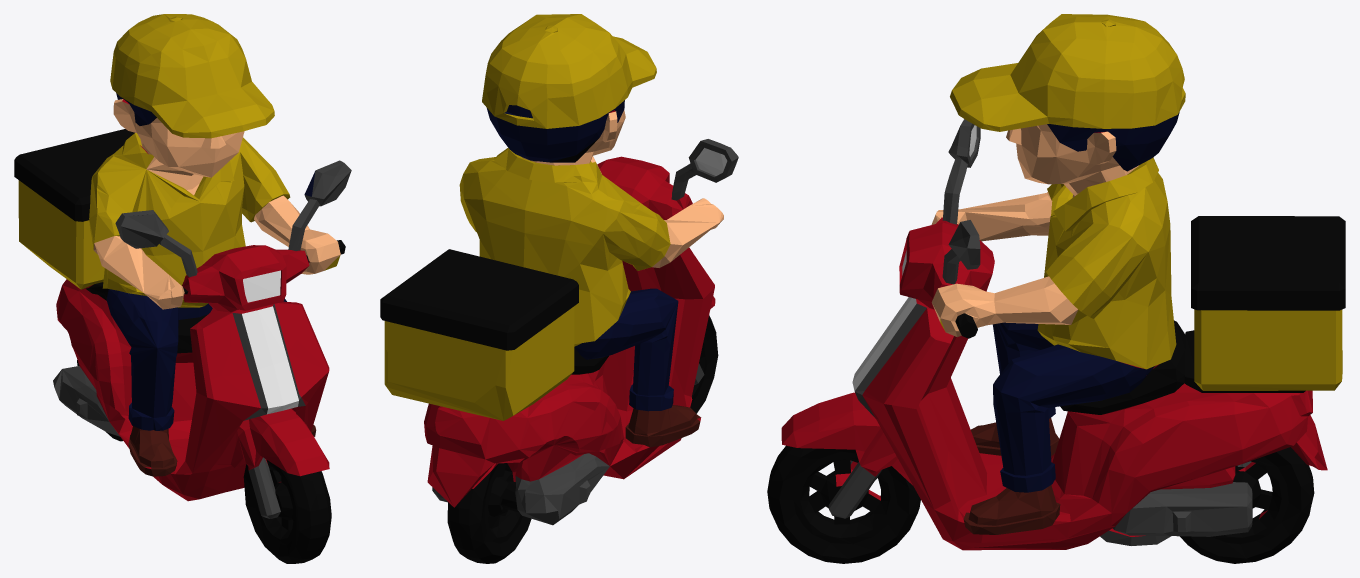
The picture shows the model from 3 angles, left to right: view 1: azimuth 30°, elevation 25°; view 2: azimuth 150°, elevation 25°; view 3: azimuth 270°, elevation 25°; orthographic projection. The views are drawn at different scales.
Visible parts, largest first — view 1: tmp7ywkszrk.ply; view 2: tmp7ywkszrk.ply; view 3: tmp7ywkszrk.ply.
Boxes of the visible parts, box(x1,y1,x2,y2) form: tmp7ywkszrk.ply: box(14, 14, 351, 563); tmp7ywkszrk.ply: box(380, 14, 738, 563); tmp7ywkszrk.ply: box(767, 14, 1345, 563).
Size of the model in its own units: 49.19 by 93.18 by 90.48.
